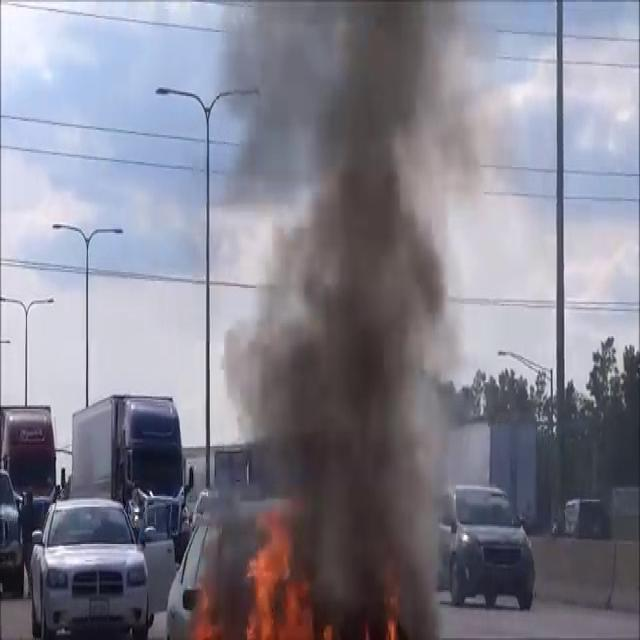Fire: (196, 525, 331, 639)
Smoke: (202, 0, 479, 628)
